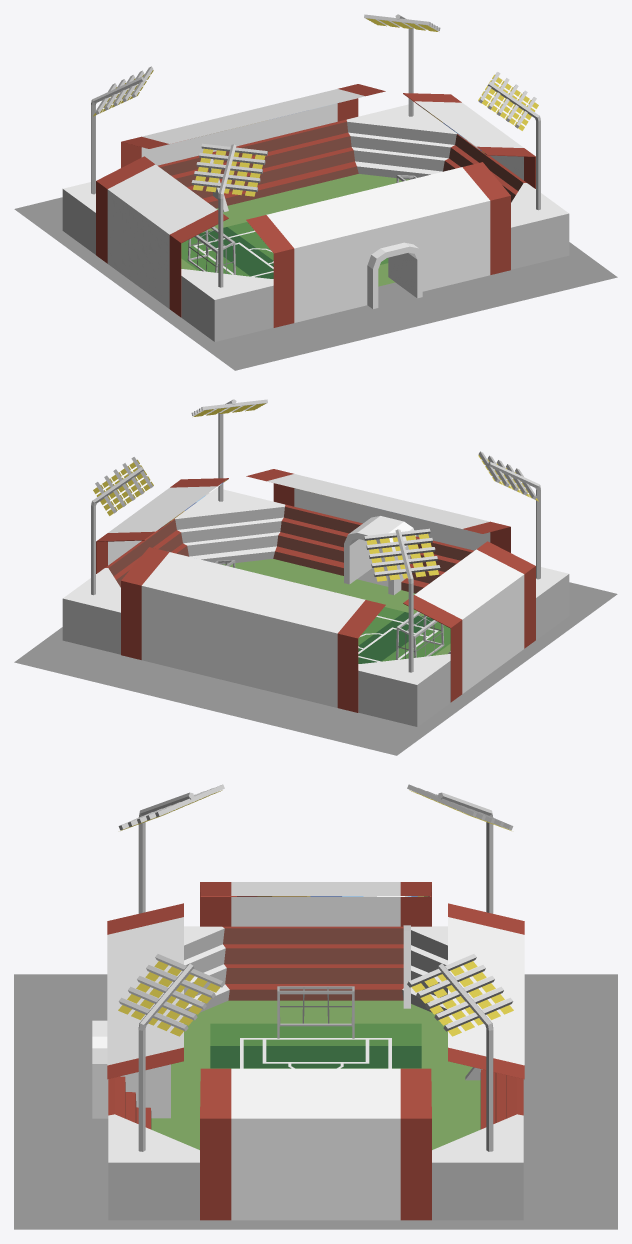
Rendered from stadium_008.fbx.
3 renders of one model, top to bottom at view 1: azimuth 30°, elevation 25°; view 2: azimuth 150°, elevation 25°; view 3: azimuth 270°, elevation 25°, orthographic. The views are drawn at different scales.
Visible parts, largest first — view 1: stadium_008; view 2: stadium_008; view 3: stadium_008.
Boxes of the visible parts, x1,y1,x2,y2 form: stadium_008: (14, 14, 617, 370); stadium_008: (14, 399, 617, 755); stadium_008: (14, 784, 617, 1229).
Size of the model in its own units: 1600 by 667 by 1600.
